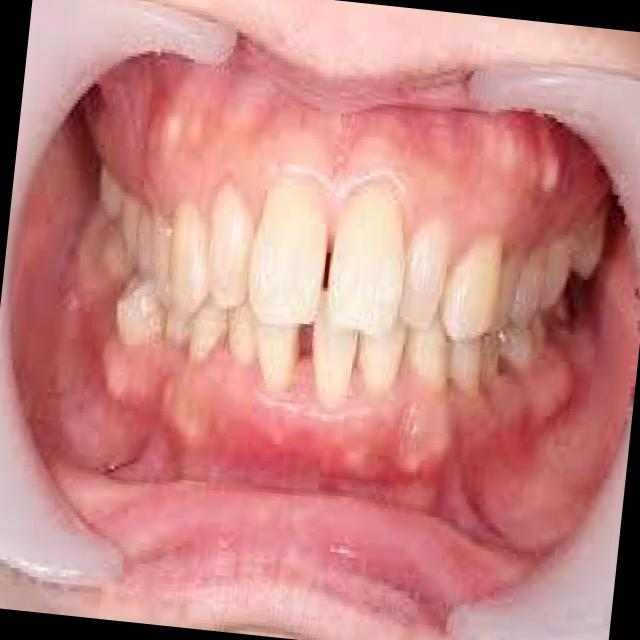Tooth: (324, 189, 407, 330), (247, 191, 329, 328), (437, 238, 504, 341), (207, 181, 255, 306), (398, 221, 448, 329), (313, 287, 358, 405), (360, 312, 410, 405), (164, 209, 207, 315), (404, 309, 450, 397), (252, 315, 299, 391), (116, 278, 164, 348), (509, 246, 549, 329), (540, 235, 575, 310), (226, 293, 258, 371), (190, 299, 228, 355), (498, 321, 536, 374), (447, 335, 479, 395), (163, 302, 204, 346), (153, 213, 172, 302), (491, 271, 518, 330), (137, 208, 155, 279), (476, 330, 500, 382)
